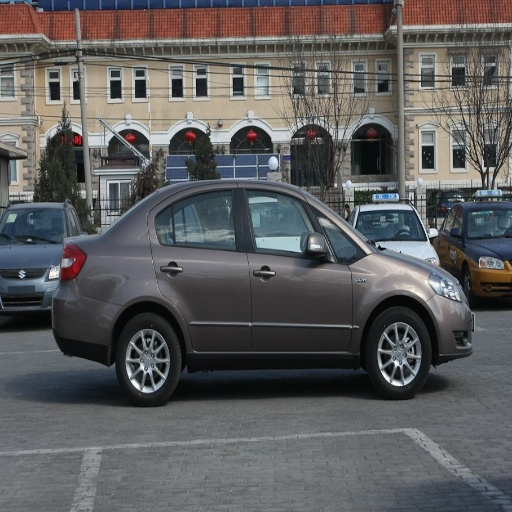back_right_door: (150, 182, 251, 352)
front_right_door: (240, 184, 360, 350)
